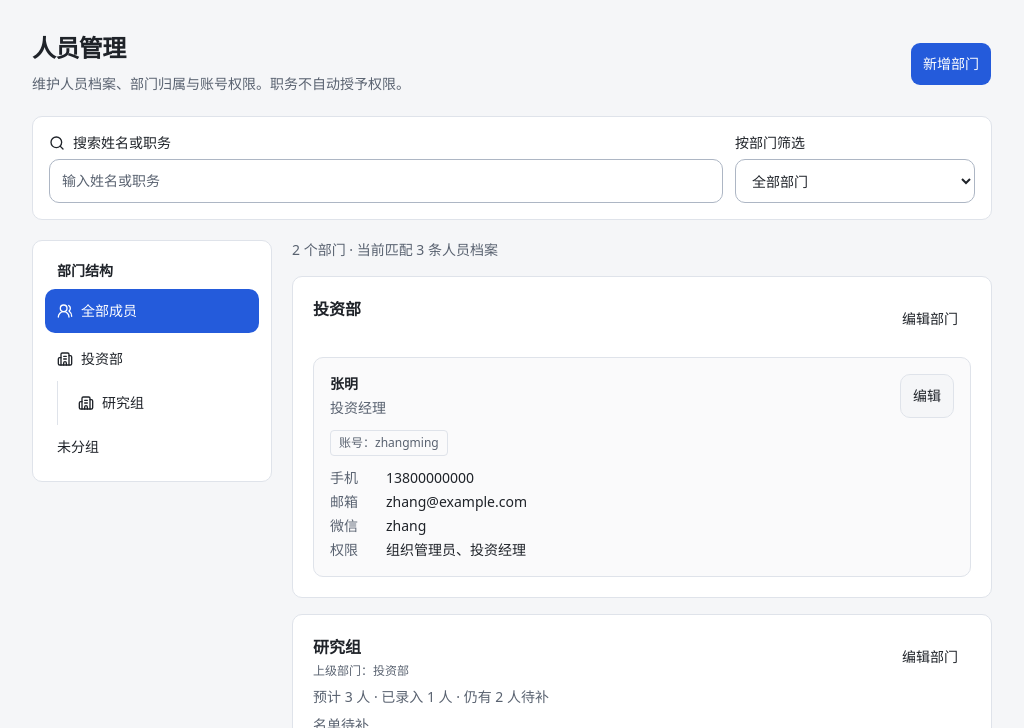
Test case: organization workspace › filters members by department and adds a department with explicit parent
Select "研究组" in the dropdown labelled "按部门筛选" at {"x": 855, "y": 181}, box [735,159,975,203]
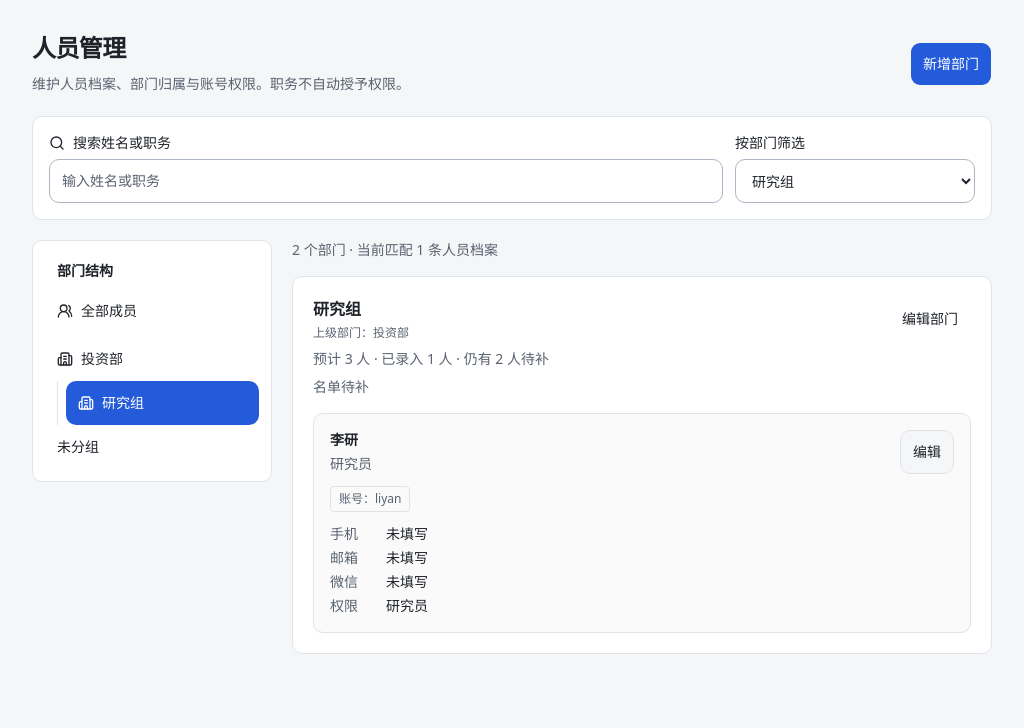
Now the heading "张明" is gone
Click the button "新增部门" at {"x": 951, "y": 64}, box [910,42,992,86]
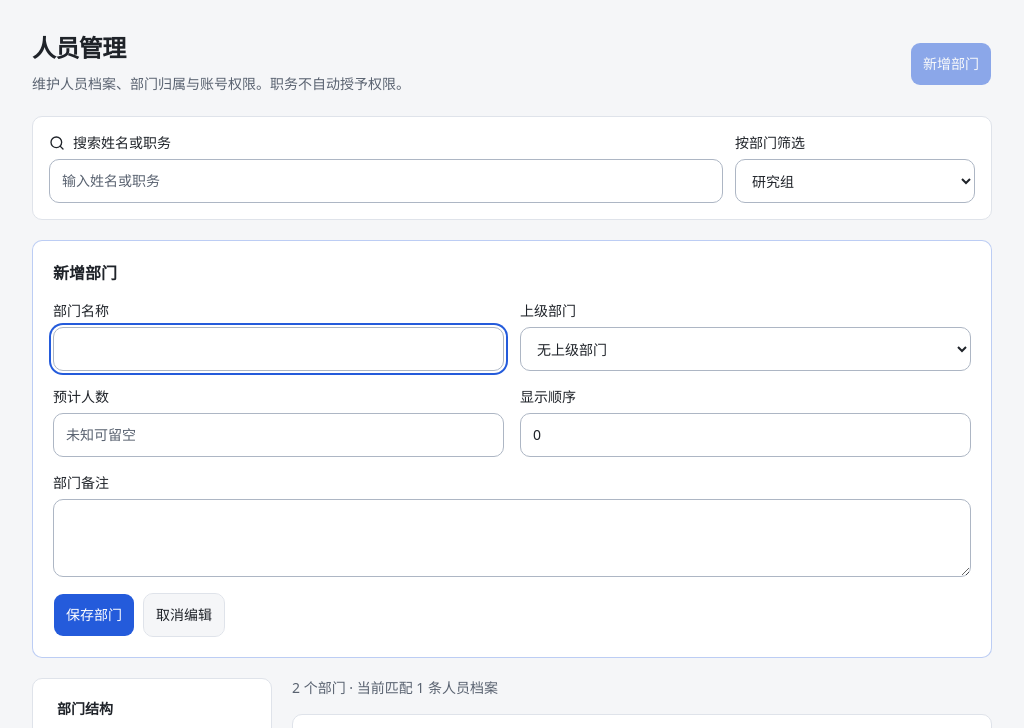
Type "投后组" into the field labelled "部门名称" at {"x": 278, "y": 349}, box [53,327,504,371]
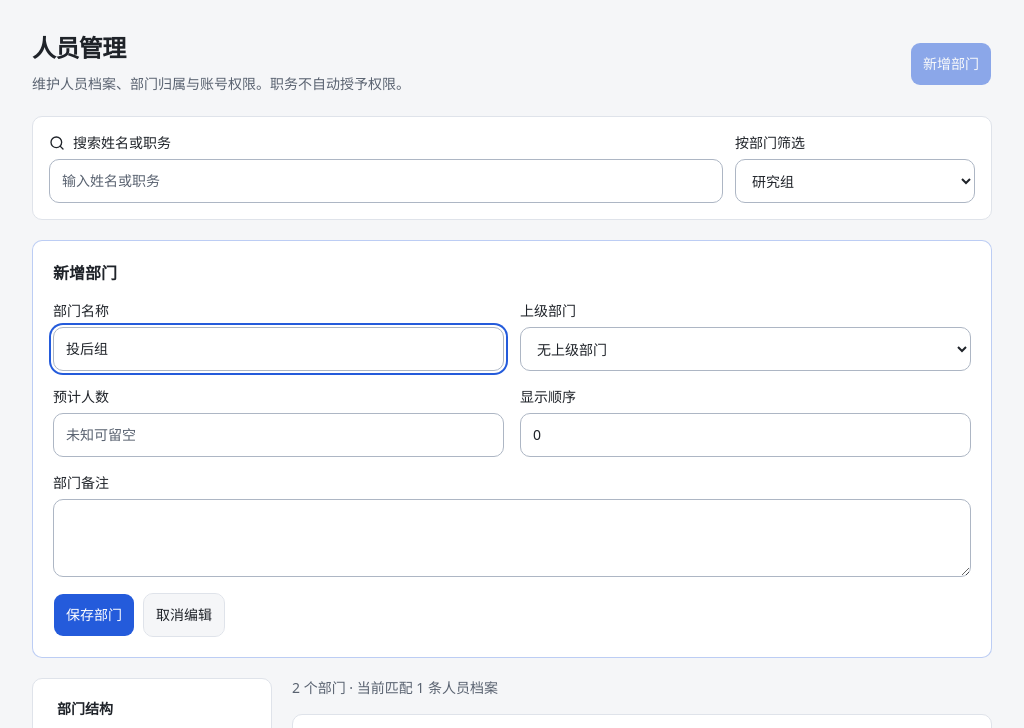
Select "投资部" in the dropdown labelled "上级部门" at {"x": 746, "y": 349}, box [520,327,971,371]
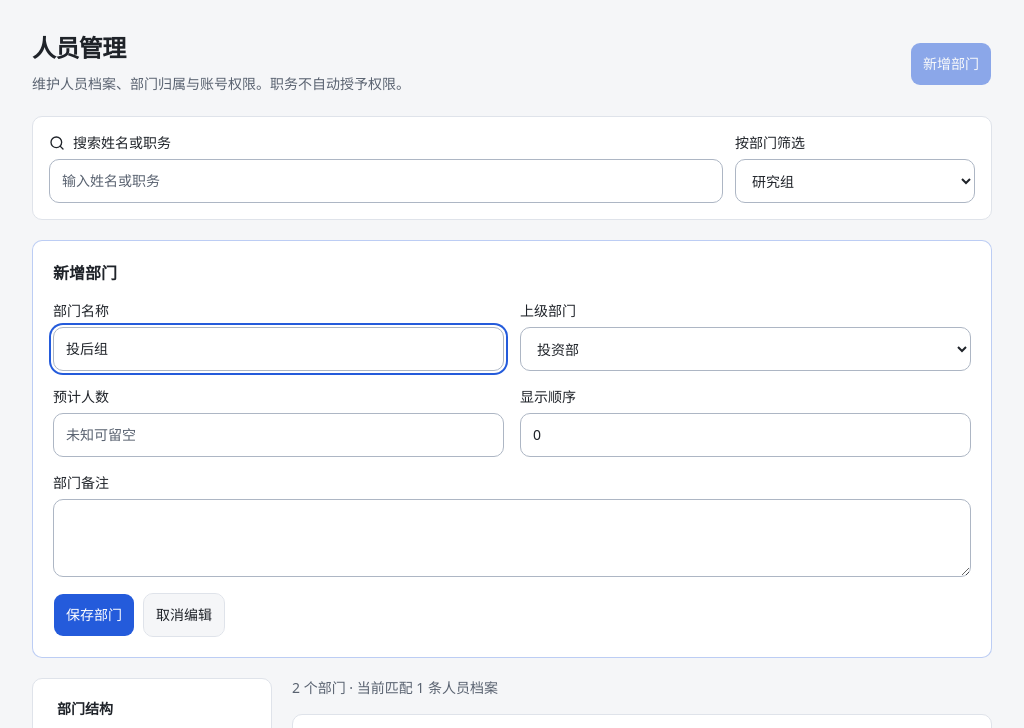
Click the button "保存部门" at {"x": 94, "y": 615}, box [53,593,135,637]
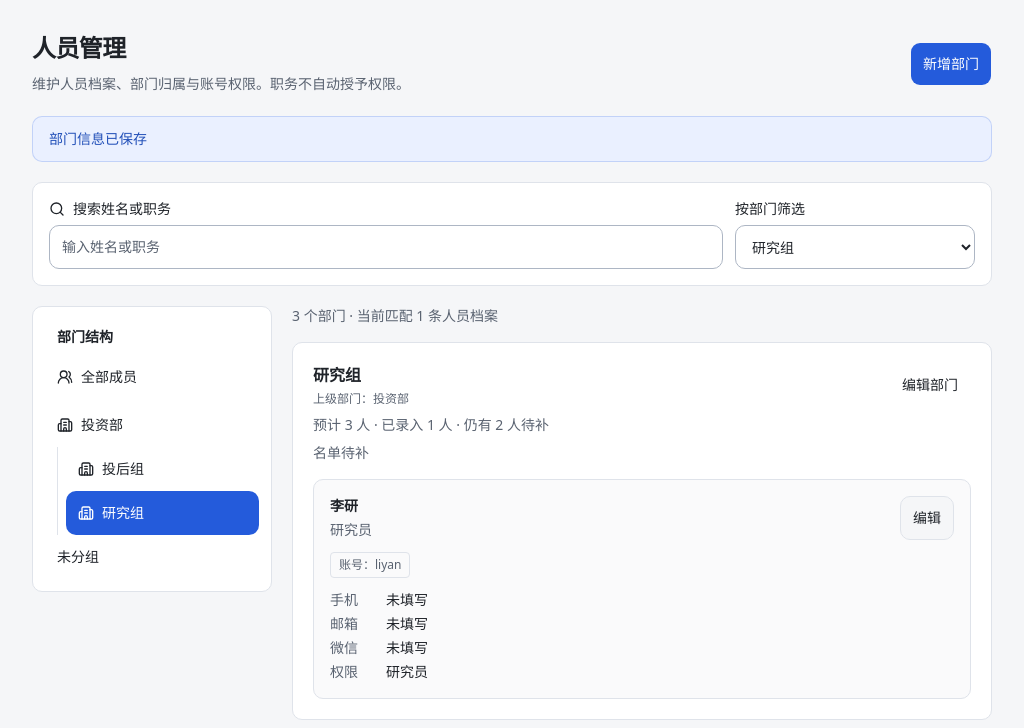
Now the text "部门信息已保存" is shown, box [32,116,992,162]
